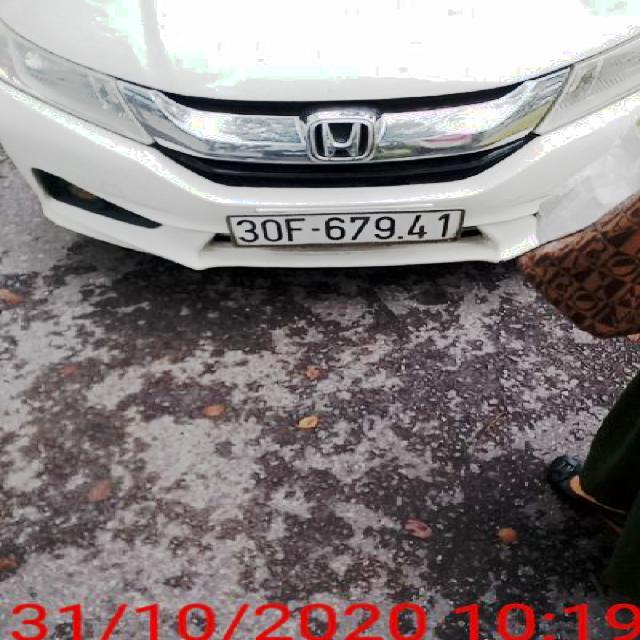license_plate: (229, 210, 467, 247)
